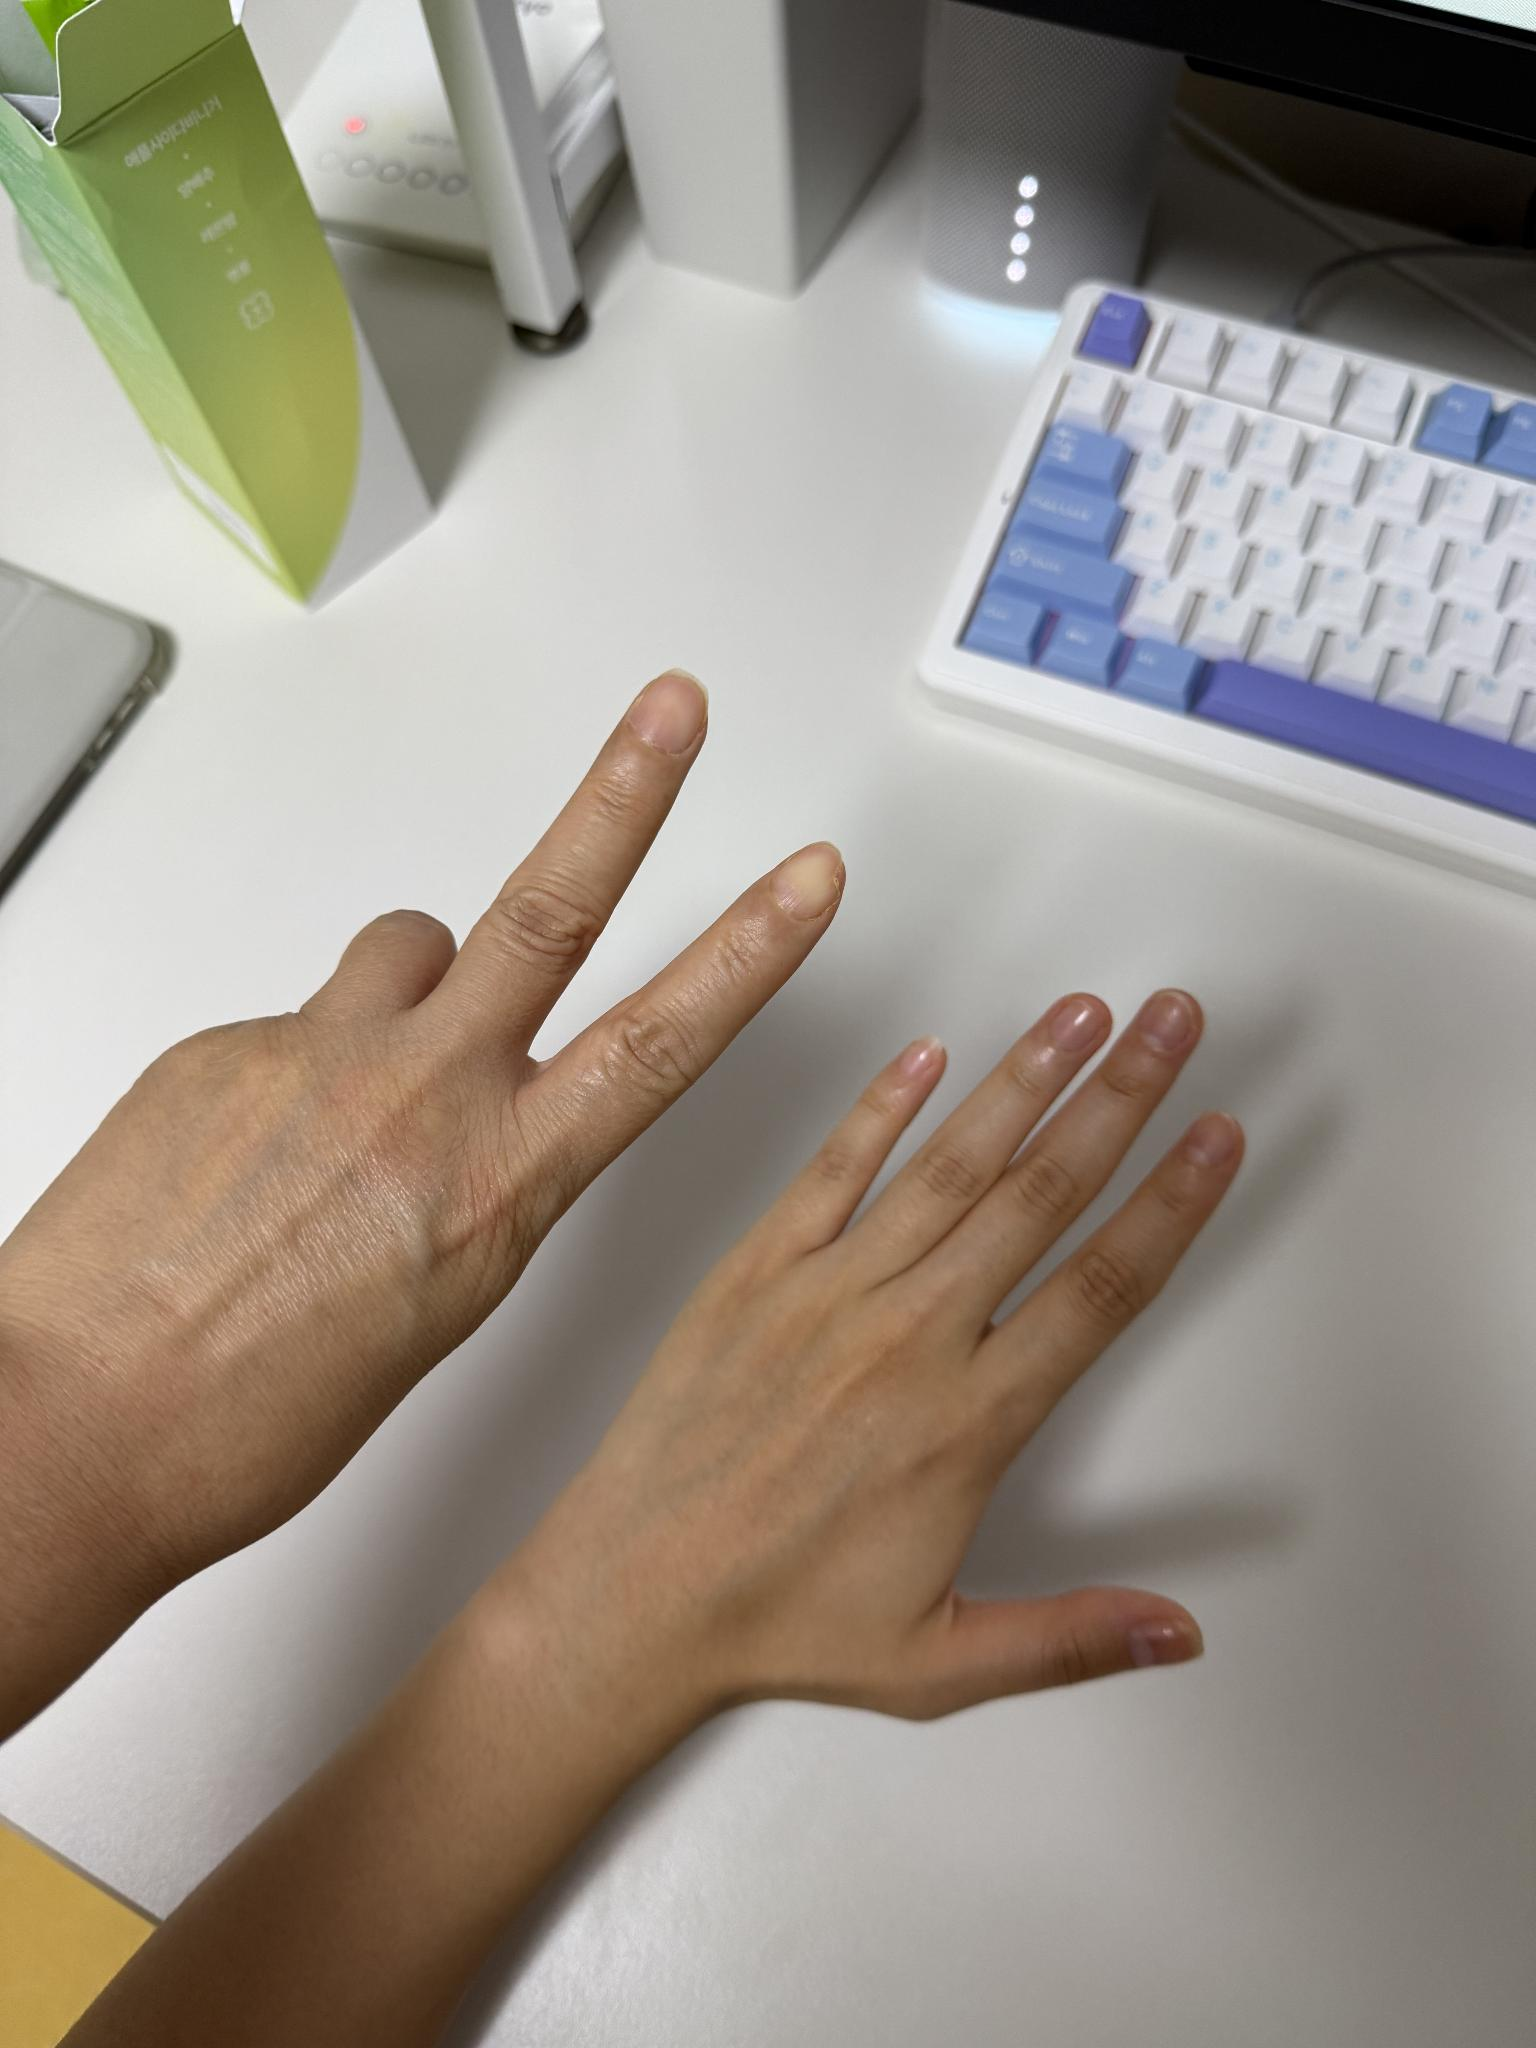v: (3, 647, 850, 1806)
